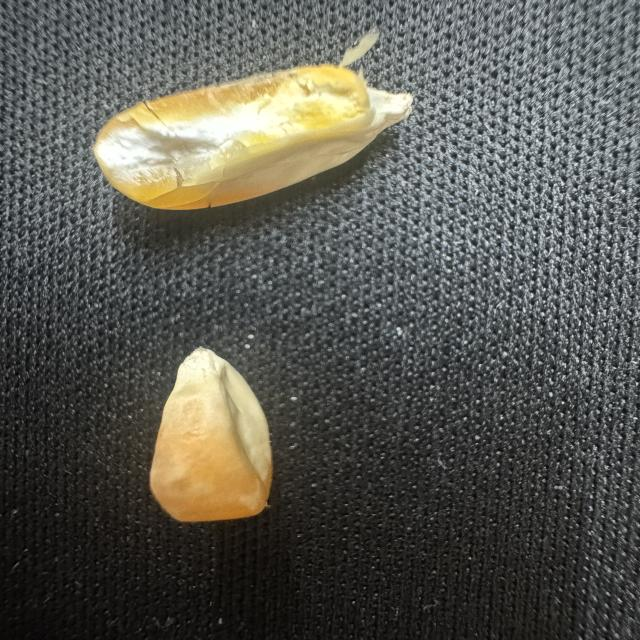Bad-Seed: (88, 55, 424, 213), (142, 343, 280, 526)
